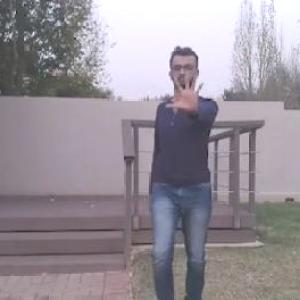follow_hand: (165, 69, 208, 114)
